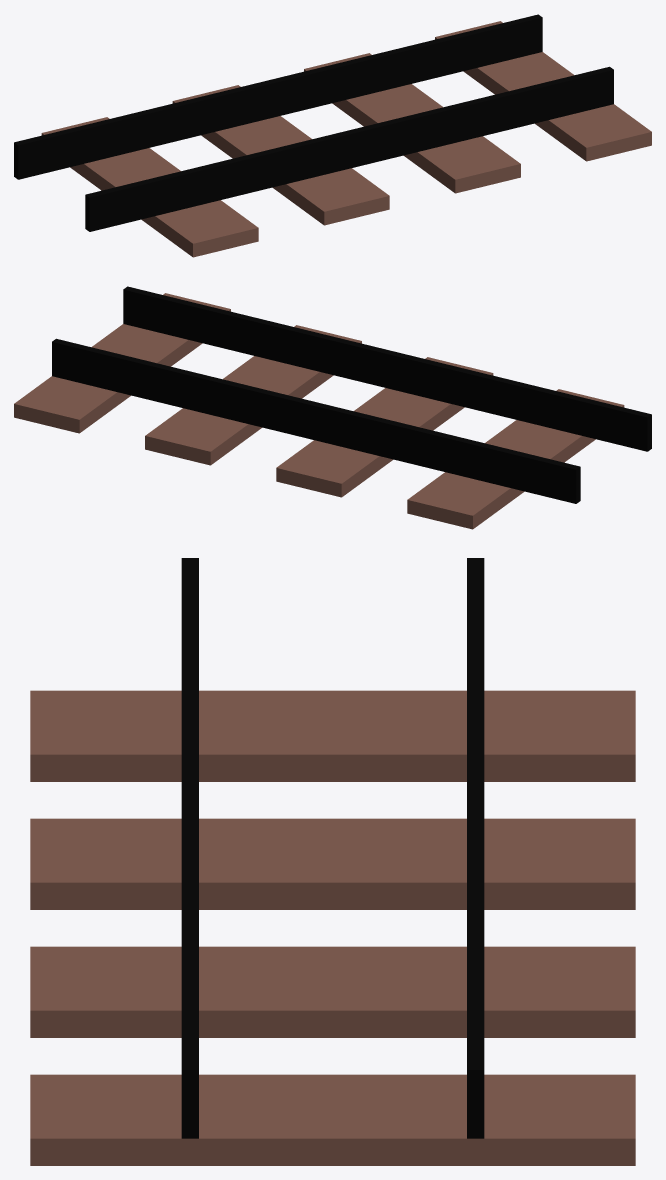
File: spojovlacek_assets.glb
The picture shows the model from 3 angles, top to bottom: view 1: azimuth 30°, elevation 25°; view 2: azimuth 150°, elevation 25°; view 3: azimuth 270°, elevation 25°; orthographic projection. The views are drawn at different scales.
Parts seen in each view (by area): view 1: Straight; view 2: Straight; view 3: Straight.
Boxes of the visible parts, x1,y1,x2,y2 form: Straight: (14,14,651,257); Straight: (14,286,651,529); Straight: (30,558,635,1165).
Size of the model in its own units: 4 by 0.35 by 2.
Materials: 1 (1 with a texture image).
